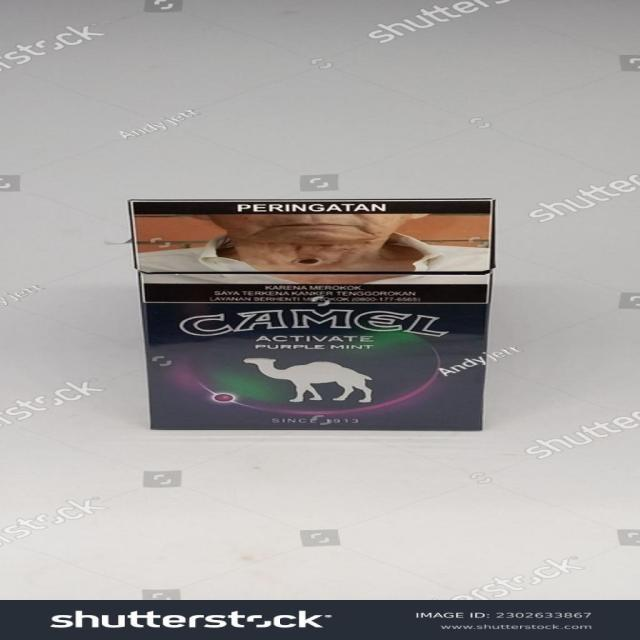smoking: (128, 198, 495, 432)
